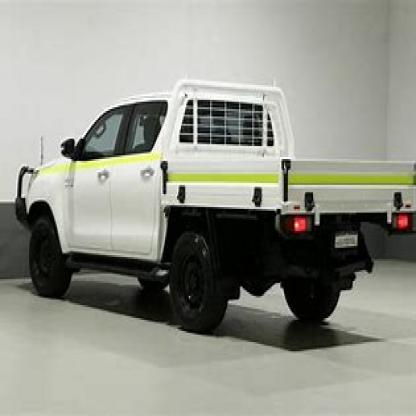light_vehicle: (11, 61, 414, 349)
